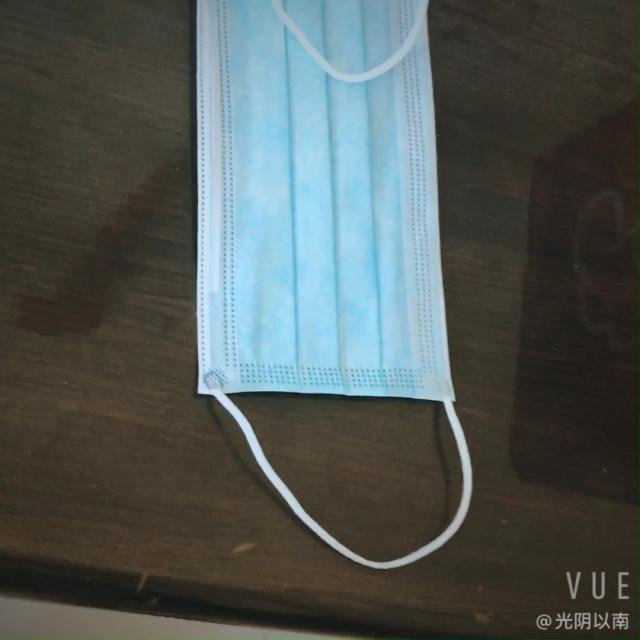non-organic waste: (167, 9, 458, 414)
